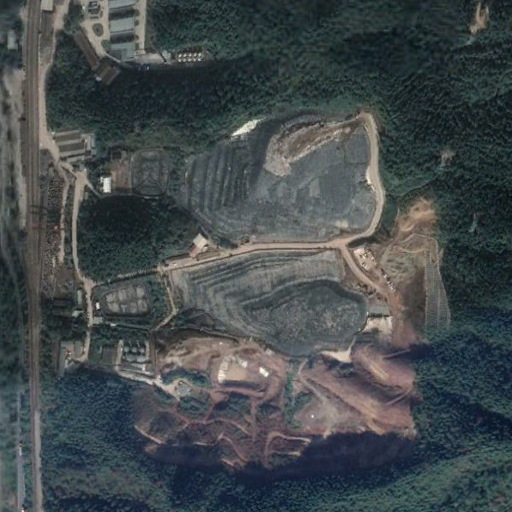lf: (177, 109, 384, 249), (168, 247, 372, 372)
